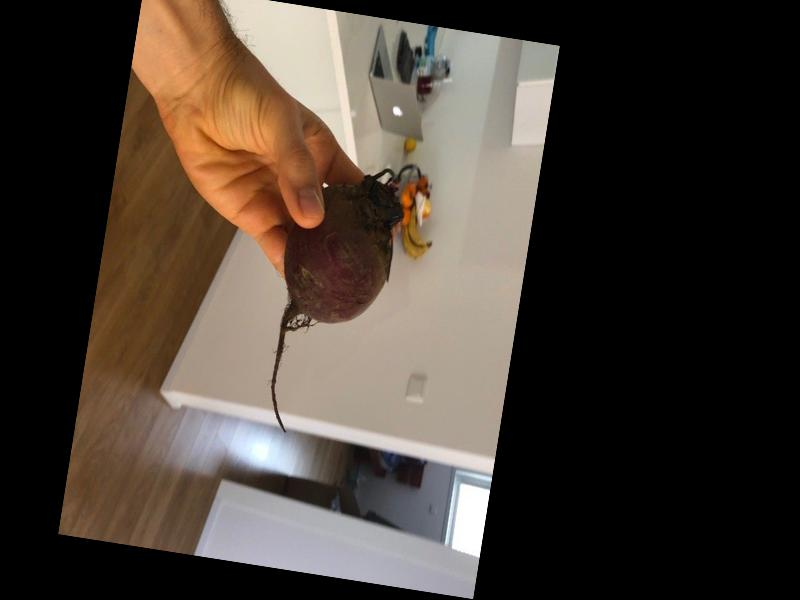Beet: (258, 156, 408, 446)
